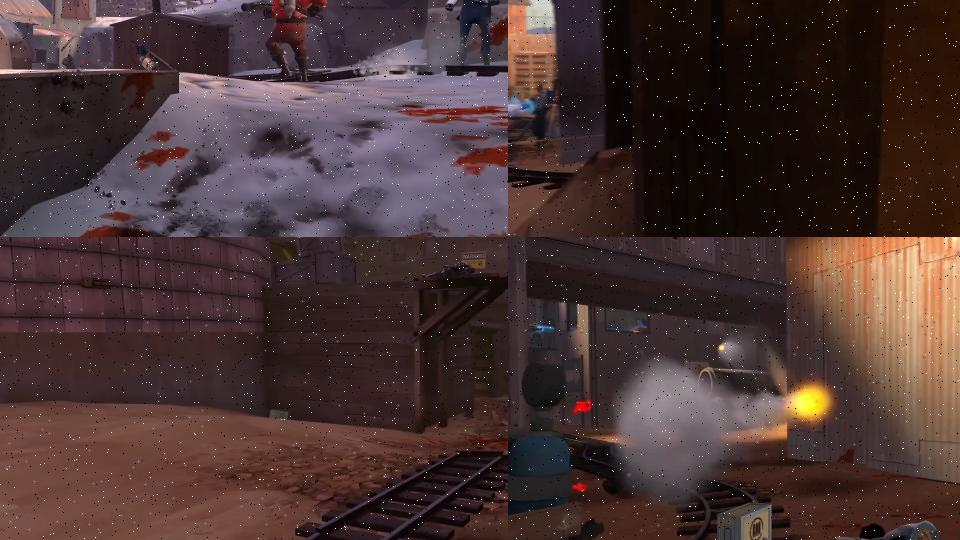Enemy: (240, 0, 327, 83), (444, 0, 501, 66), (520, 84, 555, 146), (422, 261, 477, 279), (527, 318, 546, 346)
